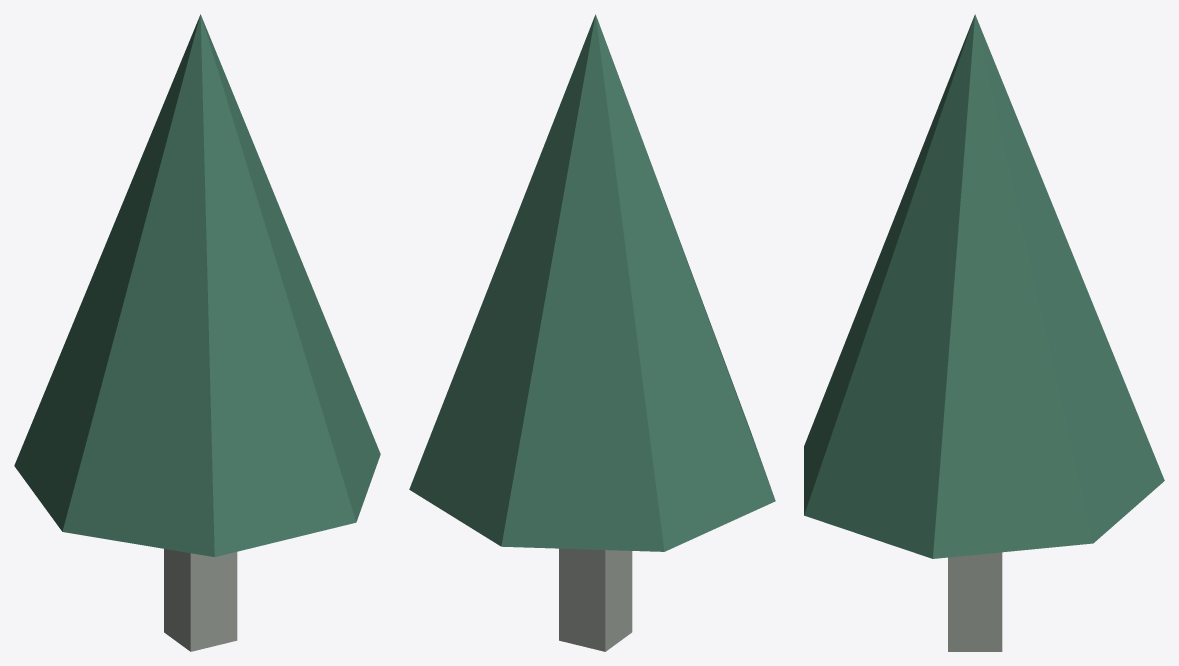
The model's file is Tree.fbx.
3 renders of one model, left to right at view 1: azimuth 30°, elevation 25°; view 2: azimuth 150°, elevation 25°; view 3: azimuth 270°, elevation 25°, orthographic.
Visible parts, largest first — view 1: Crown, Trunk; view 2: Crown, Trunk; view 3: Crown, Trunk.
Boxes of the visible parts, box(x1,y1,x2,y2) form: Crown: box(14, 14, 380, 557); Trunk: box(164, 549, 237, 651); Crown: box(409, 14, 775, 551); Trunk: box(559, 548, 632, 651); Crown: box(804, 14, 1164, 558); Trunk: box(948, 552, 1002, 651).
Size of the model in its own units: 273 by 510 by 266.
